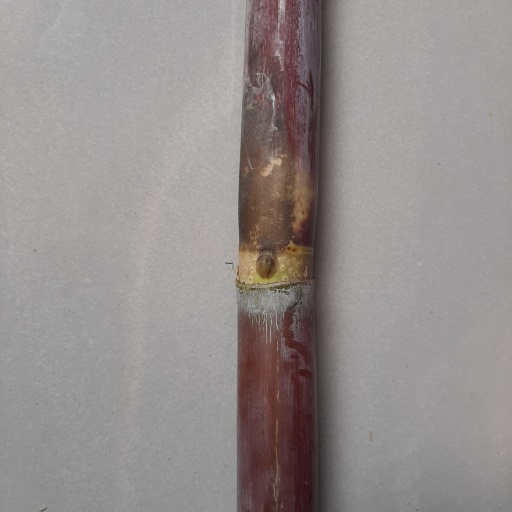Bud: (255, 253, 278, 280)
